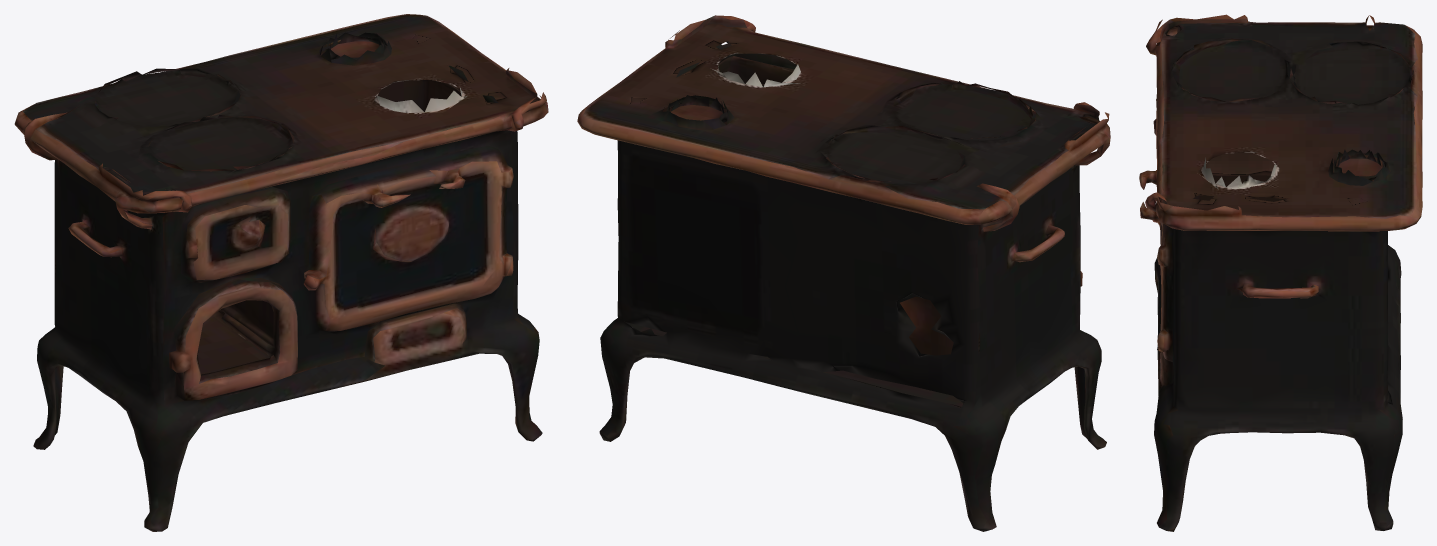
Rendered from cocina.glb.
3 renders of one model, left to right at view 1: azimuth 30°, elevation 25°; view 2: azimuth 150°, elevation 25°; view 3: azimuth 270°, elevation 25°, orthographic. The views are drawn at different scales.
Parts seen in each view (by area): view 1: geometry_0; view 2: geometry_0; view 3: geometry_0.
Part boxes in pixels (x1,y1,x2,y2): geometry_0: (14,14,548,531); geometry_0: (577,15,1110,531); geometry_0: (1139,14,1422,531).
Bounding box in the file's own units: 1.1 × 0.85 × 0.65.
1 material, 1 textured.
